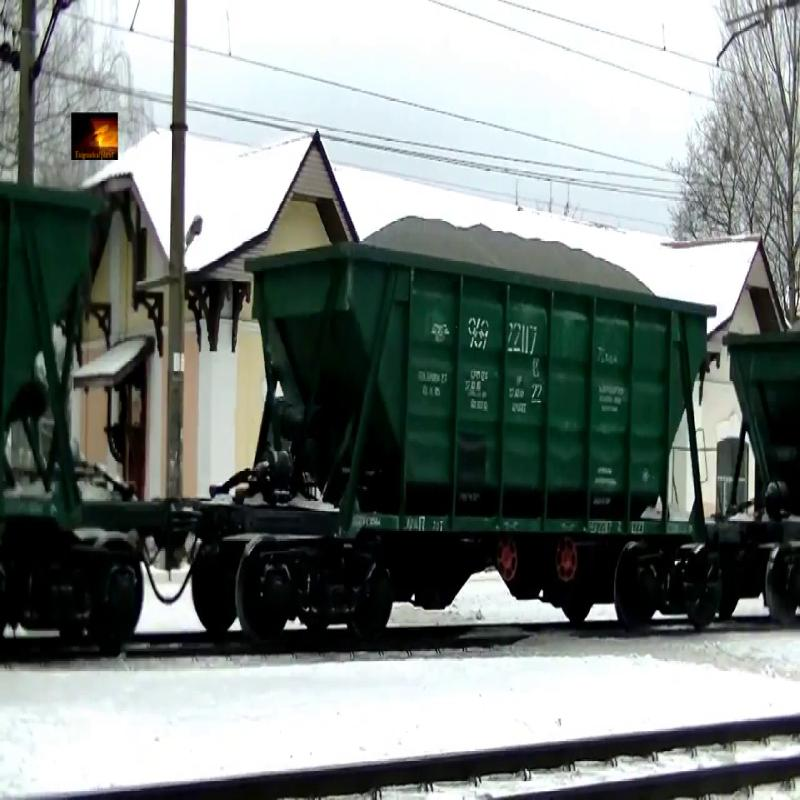train: (233, 174, 727, 639), (1, 138, 175, 648)
